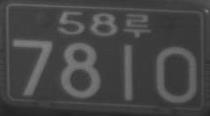0: (154, 44, 197, 104)
1: (112, 43, 145, 102)
5: (56, 10, 86, 36)
7: (11, 38, 54, 95)
8: (59, 40, 102, 100), (89, 11, 117, 37)
루: (122, 12, 151, 39)
